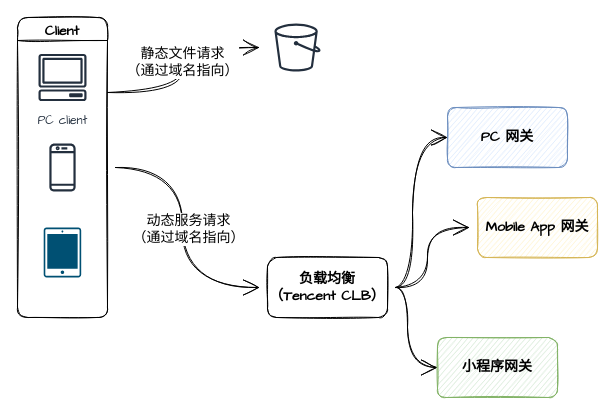
The diagram is 615 pixels wide and 415 high, and some of its shapes have lost their labels. Here are the shapes that lost their labels. From the top down, the centre of each, then its label:
At point 297,47: "云桶 （Tencent COS）".
At point 62,167: "Mobile client".
At point 62,252: "其他 便携设备".
